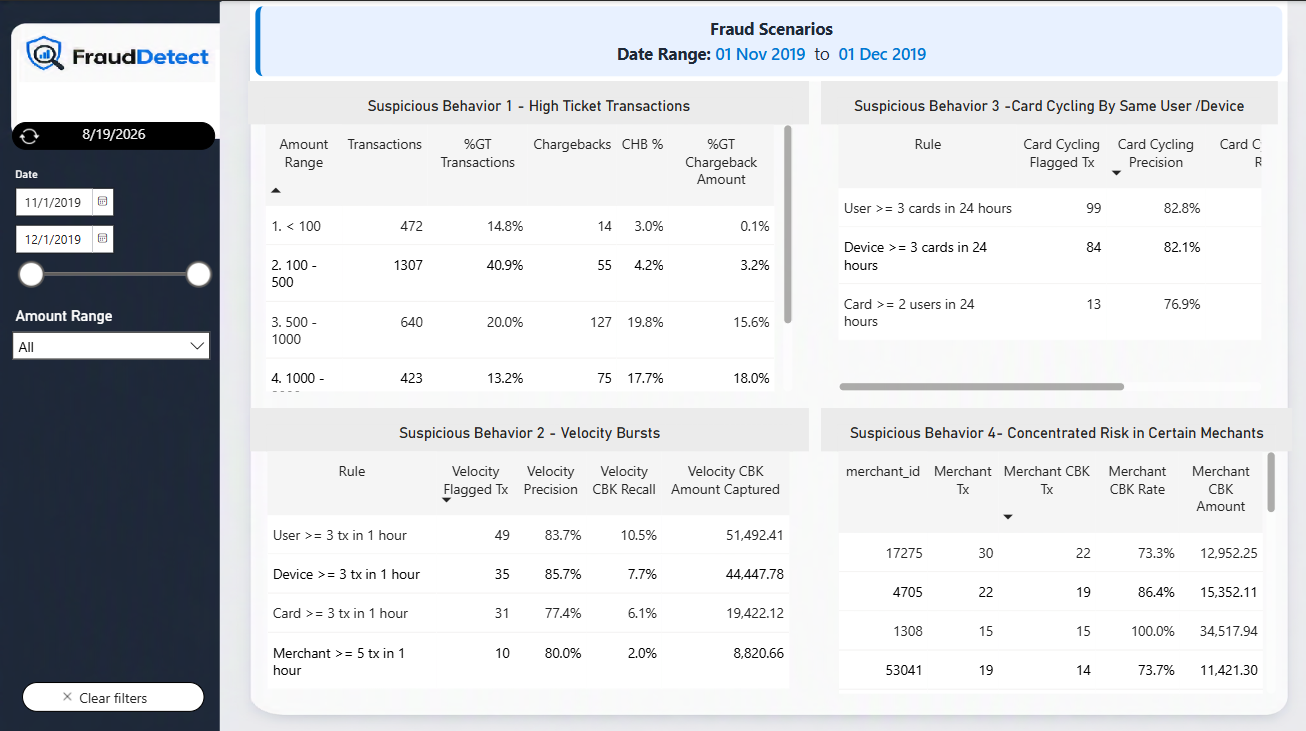

What the dashboard file says about the page in this screenshot:
{"tool":"powerbi","page":{"name":"Fraud Scenarios","canvas":[1280,720],"ordinal":1},"visuals":[{"type":"group","id":"g1","title":"Group 1","box":[13.6,117.7,197.4,27.2],"z":0},{"type":"htmlContent443BE3AD55E043BF878BED274D3A6855","fields":{"content":["Measure.Date Range HTML2"]},"box":[244.2,0,1005.8,77.7],"z":1000},{"type":"card","fields":{"Values":["Min(Refresh time.Date)"]},"box":[13.6,117.7,197.4,27.2],"z":2000,"group":"g1"},{"type":"slicer","fields":{"Values":["casecsv_f.Amount Range"]},"box":[9,298,202,83],"z":2000},{"type":"slicer","fields":{"Values":["calendar.Date"]},"box":[9,162,202,122],"z":3000},{"type":"tableEx","title":"Suspicious Behavior 1 - High Ticket Transactions","fields":{"Values":["casecsv_f.Amount Range","Measure.Transactions","Divide(Measure.Transactions, ScopedEval(Measure.Transactions, []))","Measure.Chargebacks","Measure.CHB %","Measure.%GT Chargeback Amount"]},"box":[242.1,77.9,544.4,316.9],"z":4000},{"type":"tableEx","title":"Suspicious Behavior 2 - Velocity Bursts","fields":{"Values":["Velocity Rules.Rule","Measure.Velocity Flagged Tx","Measure.Velocity Precision","Measure.Velocity CBK Recall","Measure.Velocity CBK Amount Captured"]},"box":[244.2,394.8,542.3,293],"z":5000},{"type":"actionButton","box":[23,660,176.9,28.6],"z":6000},{"type":"tableEx","title":"Suspicious Behavior 3 -Card Cycling By Same User /Device","fields":{"Values":["Card Cycling Rules.Rule","Measure.Card Cycling Flagged Tx","Measure.Card Cycling Precision","Measure.Card Cycling CBK Recall","Measure.Card Cycling CBK Amount Captured"]},"box":[797.9,77.9,442.6,316.9],"z":7000},{"type":"tableEx","title":"Suspicious Behavior 4- Concentrated Risk in Certain Mechants","fields":{"Values":["casecsv_f.merchant_id","Measure.Merchant Tx","Measure.Merchant CBK Tx","Measure.Merchant CBK Rate","Measure.Merchant CBK Amount"]},"box":[797.9,394.8,457.1,293],"z":8000},{"type":"image","box":[20.4,118.8,19.9,26],"z":15000,"group":"g1"}]}

Visuals, with their boxes on the page's 1280x720 design canvas (x1, y1, x2, y2). These are canvas units, not pixel positions in the 1306x731 screenshot, which may show the page scaled, cropped or inside an application window:
"Group 1" group: l=14, t=118, r=211, b=145
htmlContent443BE3AD55E043BF878BED274D3A6855 - Measure.Date Range HTML2: l=244, t=0, r=1250, b=78
card - Min(Refresh time.Date): l=14, t=118, r=211, b=145
slicer - casecsv_f.Amount Range: l=9, t=298, r=211, b=381
slicer - calendar.Date: l=9, t=162, r=211, b=284
"Suspicious Behavior 1 - High Ticket Transactions" tableEx: l=242, t=78, r=786, b=395
"Suspicious Behavior 2 - Velocity Bursts" tableEx: l=244, t=395, r=786, b=688
actionButton: l=23, t=660, r=200, b=689
"Suspicious Behavior 3 -Card Cycling By Same User /Device" tableEx: l=798, t=78, r=1240, b=395
"Suspicious Behavior 4- Concentrated Risk in Certain Mechants" tableEx: l=798, t=395, r=1255, b=688
image: l=20, t=119, r=40, b=145
